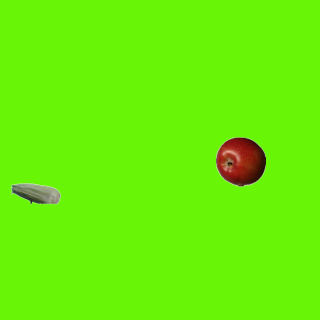Apple Braeburn: (215, 136, 265, 186)
Corn Husk: (10, 168, 60, 218)
